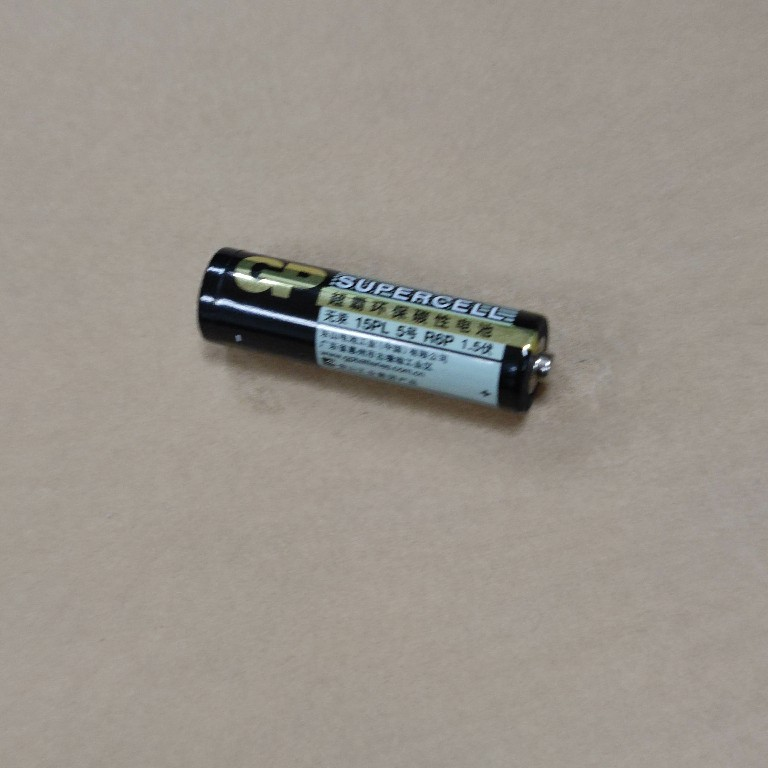charge: (194, 244, 559, 415)
